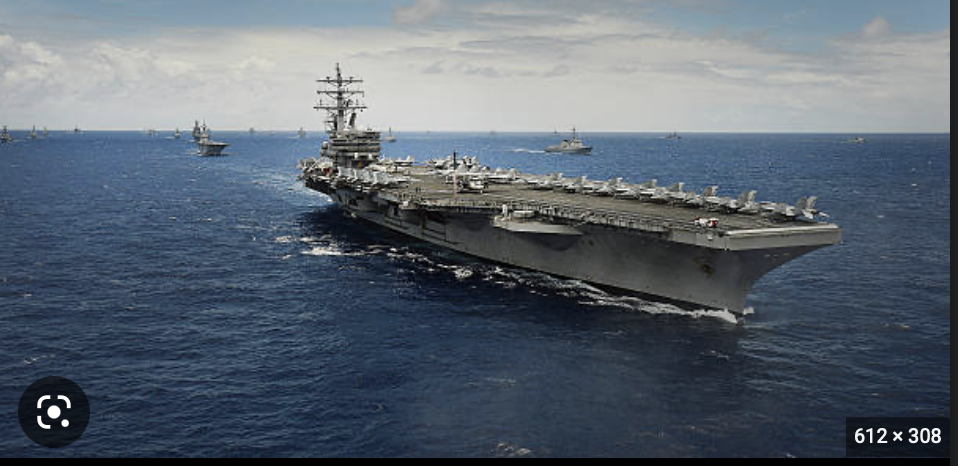ship: (294, 58, 844, 328), (534, 121, 613, 156), (188, 115, 232, 162)
